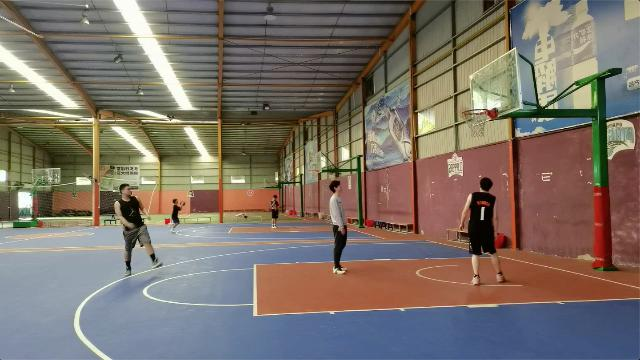basket: (462, 106, 488, 137)
